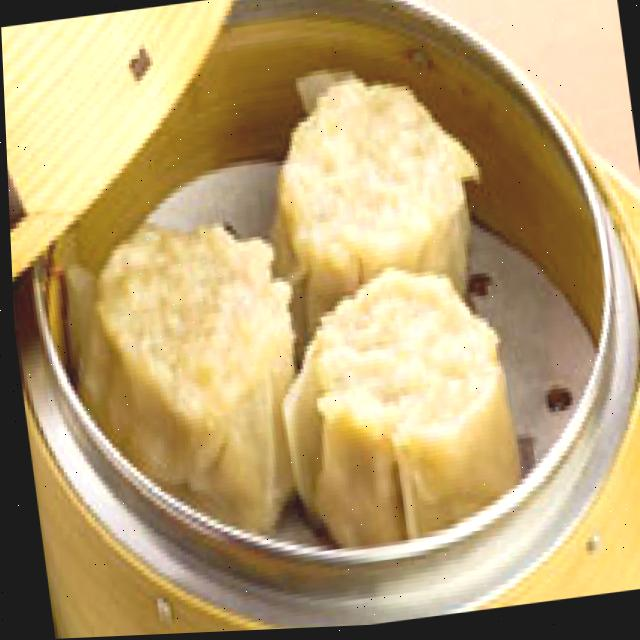带馅早点: (49, 53, 531, 570)
